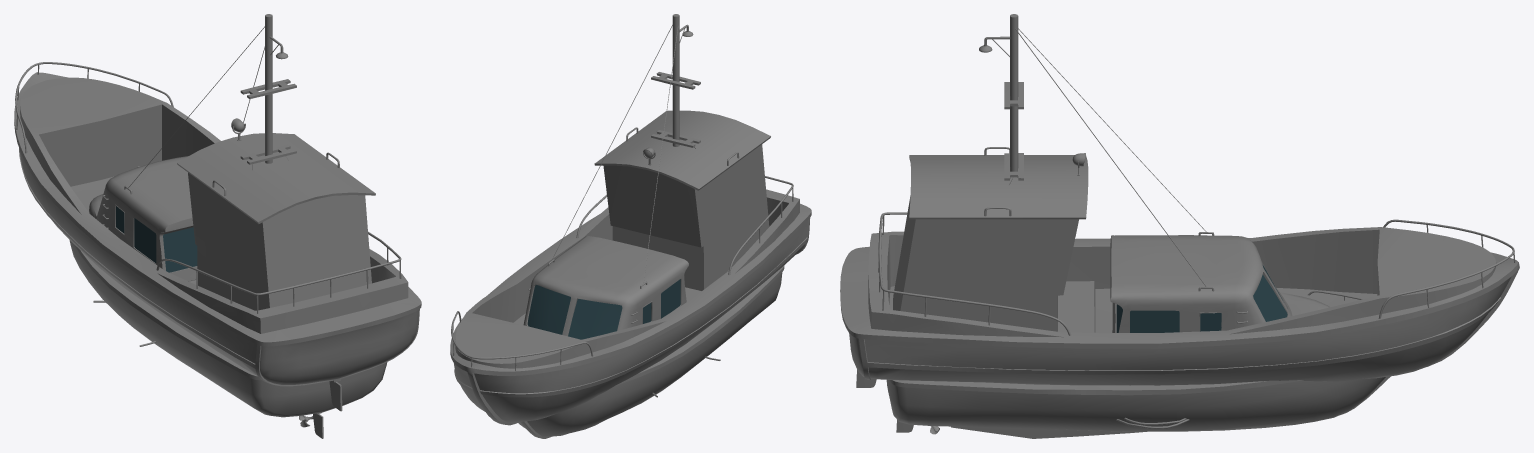
File: Boats.fbx
3 renders of one model, left to right at view 1: azimuth 30°, elevation 25°; view 2: azimuth 150°, elevation 25°; view 3: azimuth 270°, elevation 25°, orthographic. The views are drawn at different scales.
Parts seen in each view (by area): view 1: SM_boat3, SM_boat1; view 2: SM_boat3, SM_boat1; view 3: SM_boat3, SM_boat1.
Boxes of the visible parts, x1,y1,x2,y2 form: SM_boat3: (14,62,421,411); SM_boat1: (69,14,387,438); SM_boat3: (450,110,811,425); SM_boat1: (518,14,784,438); SM_boat3: (840,147,1519,387); SM_boat1: (886,14,1390,438).
Bounding box in the file's own units: 342 × 638 × 931.
